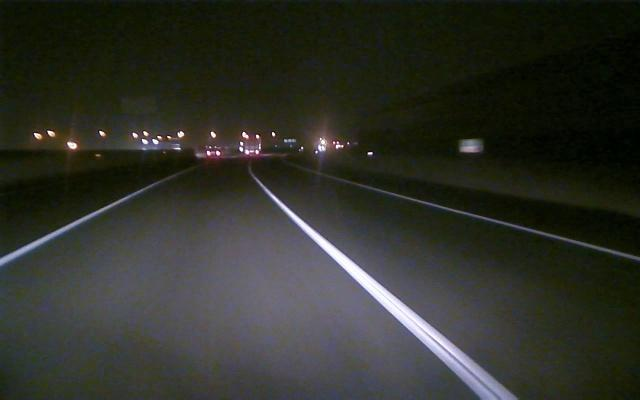lane: (257, 181, 516, 396), (349, 181, 640, 262), (0, 176, 171, 267)
